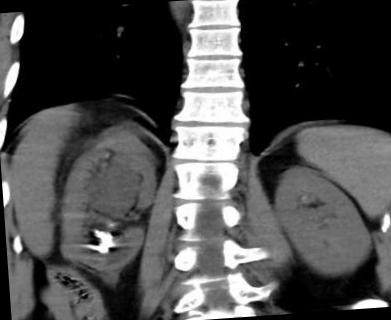Tas_Var: (80, 242, 108, 258), (96, 230, 114, 242), (98, 242, 112, 248), (106, 222, 116, 227), (93, 228, 98, 234)
